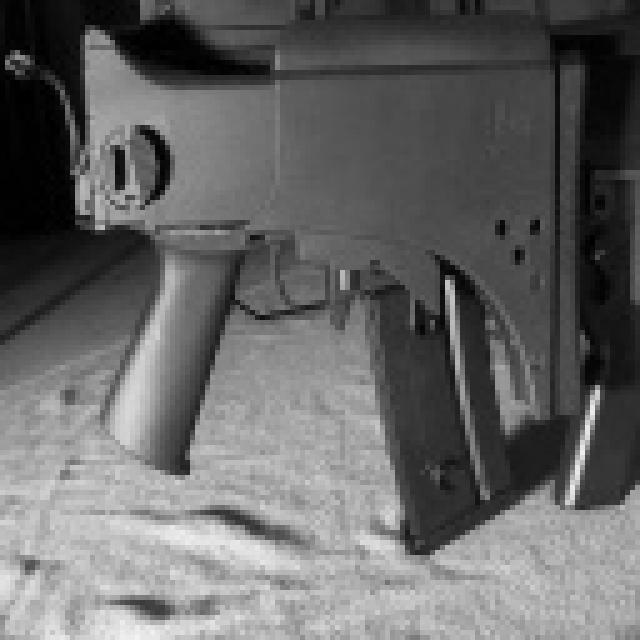Rifle: (34, 18, 640, 535)
